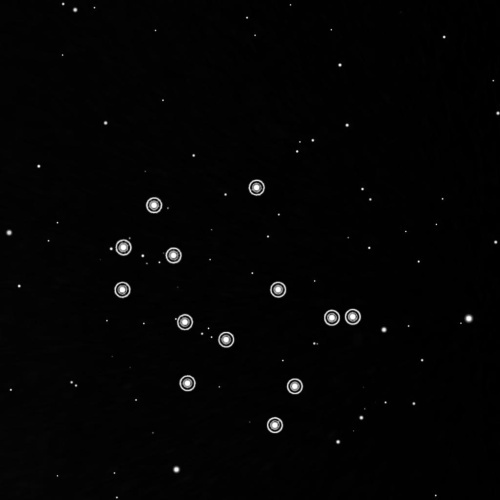gemini: (104, 174, 366, 438)
